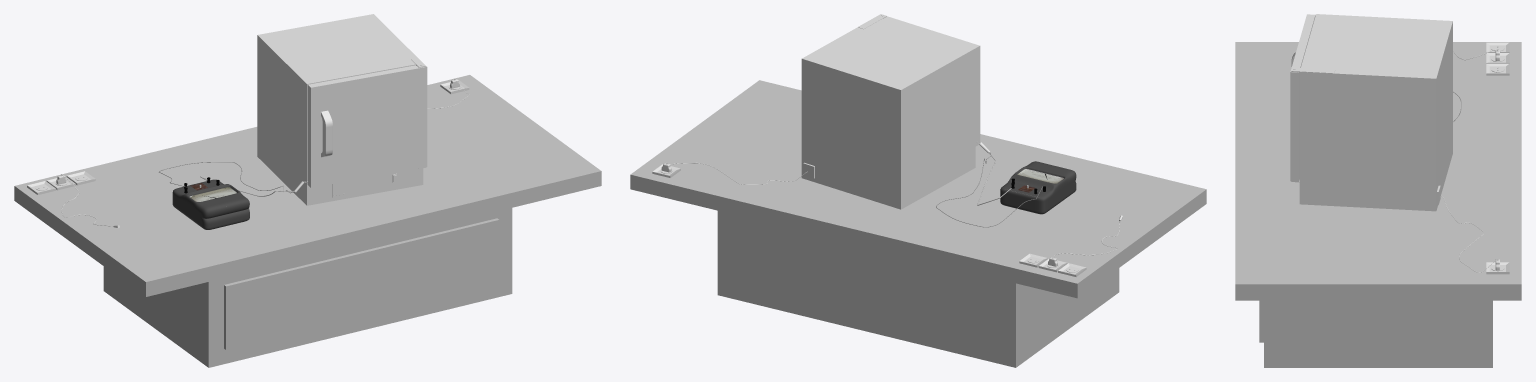
The model's file is FirstObject.FBX.
The picture shows the model from 3 angles, left to right: view 1: azimuth 30°, elevation 25°; view 2: azimuth 150°, elevation 25°; view 3: azimuth 270°, elevation 25°; orthographic projection. The views are drawn at different scales.
Visible parts, largest first — view 1: Box001, Box003, Box005, Box002, Box006, VMetr, ruchka; view 2: Box001, Box002, Box005, VMetr, Box006; view 3: Box001, Box005, Box002, Box006, Box029, Box031.
Part boxes in pixels (box(x1,y1,x2,y2)): Box001: box(14, 75, 601, 296); Box003: box(224, 218, 499, 349); Box005: box(257, 14, 423, 205); Box002: box(103, 208, 512, 367); Box006: box(307, 65, 427, 187); VMetr: box(172, 179, 249, 229); ruchka: box(321, 110, 332, 157); Box001: box(630, 80, 1206, 298); Box002: box(717, 211, 1119, 367); Box005: box(801, 18, 975, 209); VMetr: box(1000, 161, 1076, 214); Box006: box(883, 16, 980, 146); Box001: box(1235, 42, 1521, 300); Box005: box(1299, 14, 1452, 211); Box002: box(1264, 300, 1492, 367); Box006: box(1290, 14, 1315, 181); Box029: box(1486, 63, 1509, 75); Box031: box(1486, 262, 1509, 274).
Size of the model in its own units: 60 by 29.84 by 30.
